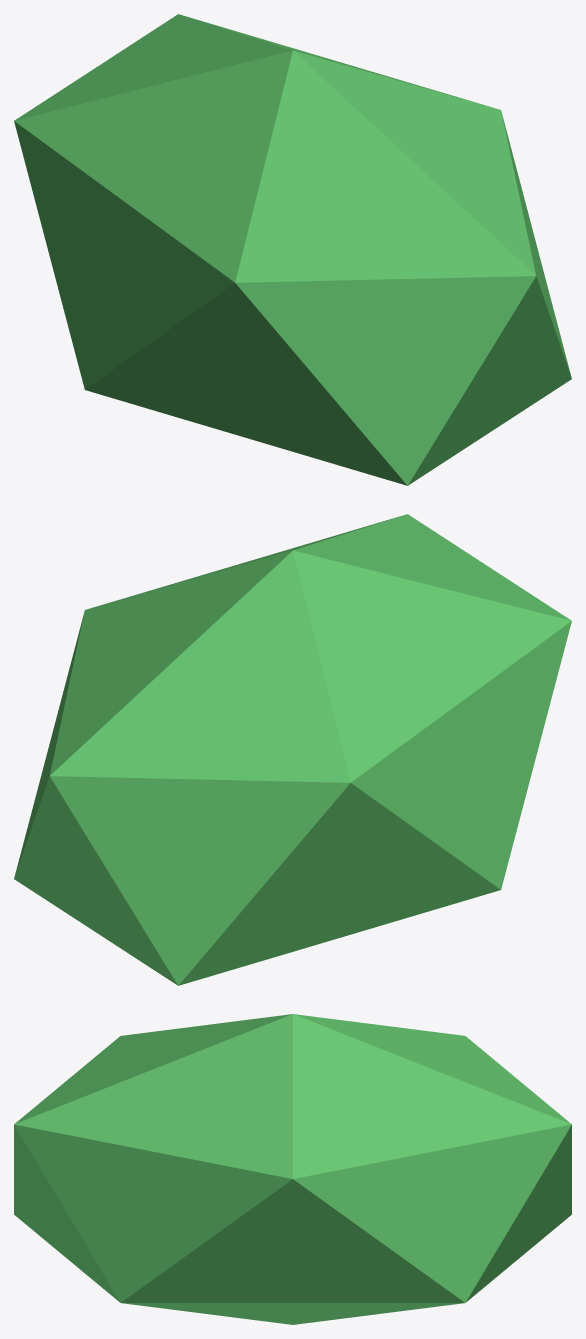
File: sling_stone_collision.glb
3 renders of one model, top to bottom at view 1: azimuth 30°, elevation 25°; view 2: azimuth 150°, elevation 25°; view 3: azimuth 270°, elevation 25°, orthographic. The views are drawn at different scales.
Parts seen in each view (by area): view 1: sling_stone-convcol; view 2: sling_stone-convcol; view 3: sling_stone-convcol.
Part boxes in pixels (x1=…): sling_stone-convcol: x1=14, y1=14, x2=571, y2=485; sling_stone-convcol: x1=14, y1=514, x2=571, y2=985; sling_stone-convcol: x1=14, y1=1014, x2=571, y2=1324.
Bounding box in the file's own units: 0.1485 × 0.136 × 0.2212.
